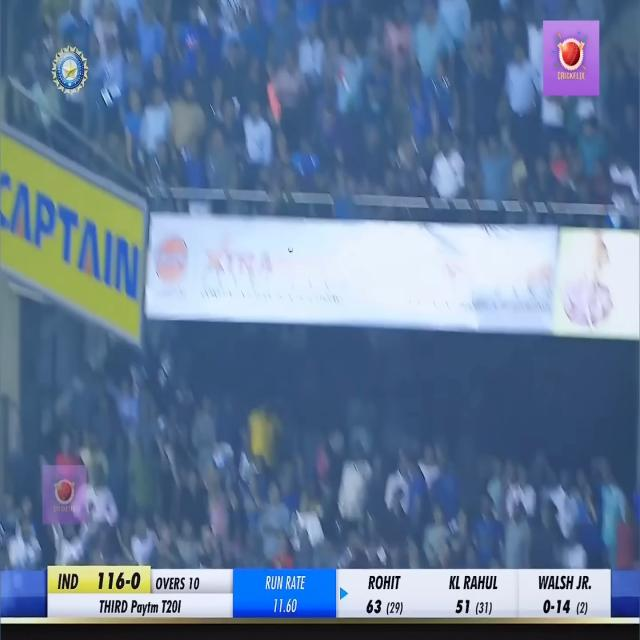fully_visible: (128, 596, 161, 622)
